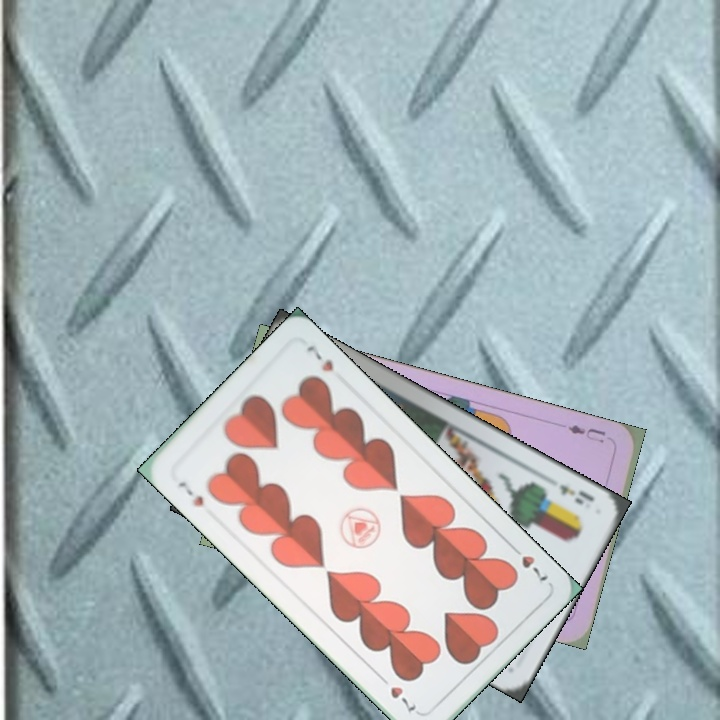EK: (555, 480, 597, 507)
EU: (564, 420, 609, 446)
H7: (505, 540, 551, 584), (174, 477, 206, 510)
